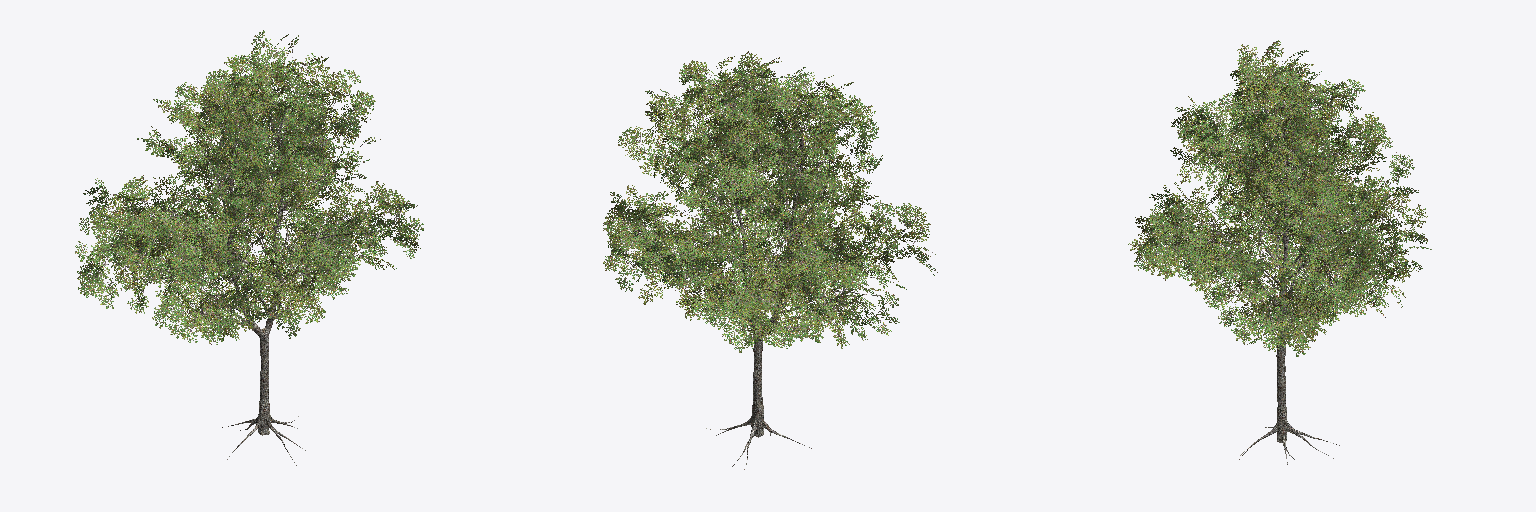
3 renders of one model, left to right at view 1: azimuth 30°, elevation 25°; view 2: azimuth 150°, elevation 25°; view 3: azimuth 270°, elevation 25°, orthographic.
Parts seen in each view (by area): view 1: Japanese_Maple_Hero_17_Mesh.001; view 2: Japanese_Maple_Hero_17_Mesh.001; view 3: Japanese_Maple_Hero_17_Mesh.001.
Part boxes in pixels (bbox=[...]): Japanese_Maple_Hero_17_Mesh.001: bbox=[75, 30, 423, 465]; Japanese_Maple_Hero_17_Mesh.001: bbox=[603, 51, 937, 469]; Japanese_Maple_Hero_17_Mesh.001: bbox=[1128, 40, 1431, 464].
Size of the model in its own units: 1.83 by 2.18 by 1.57.
4 materials, 4 textured.